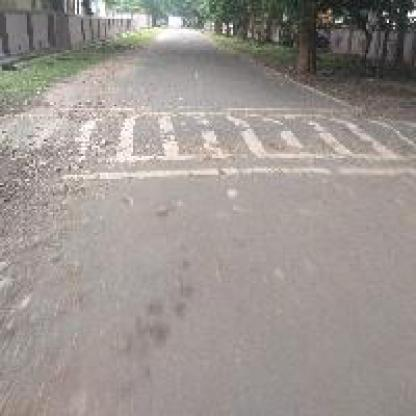Speed Bump: (0, 100, 414, 189)
